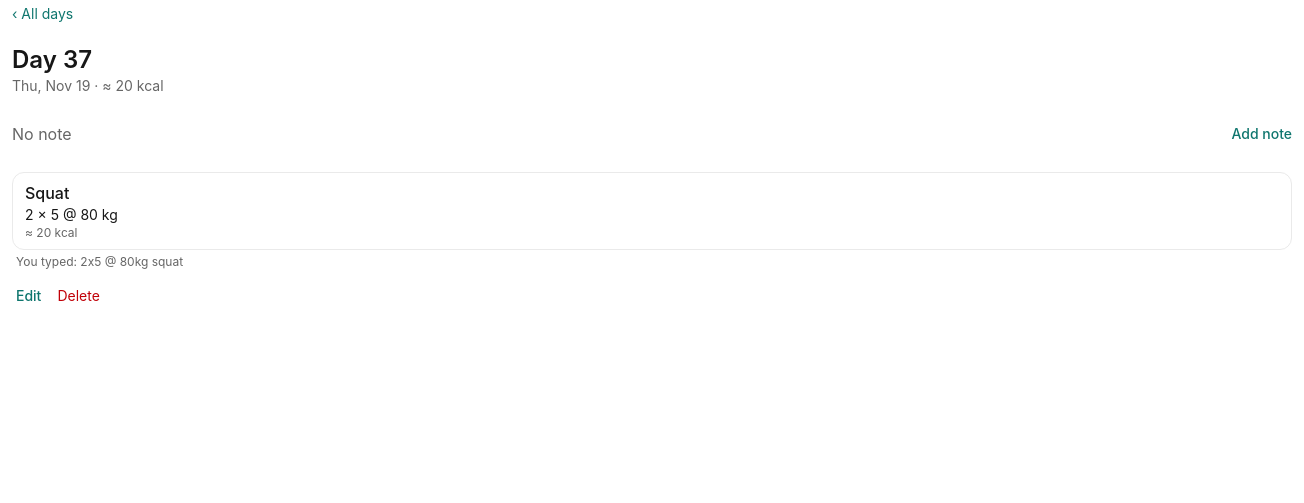
Day › a rejected edit is explained
This screenshot has width=1304, height=503.
Click the button "Edit" at (29, 296), box [12,274,45,318]
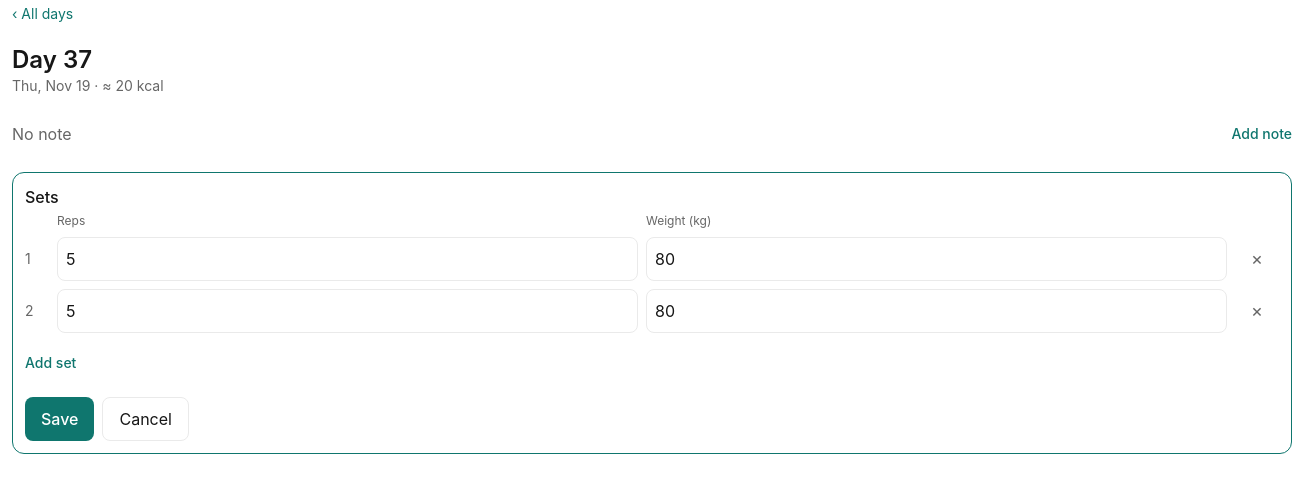
Click the button "Save" at (60, 419), box [25,397,94,441]
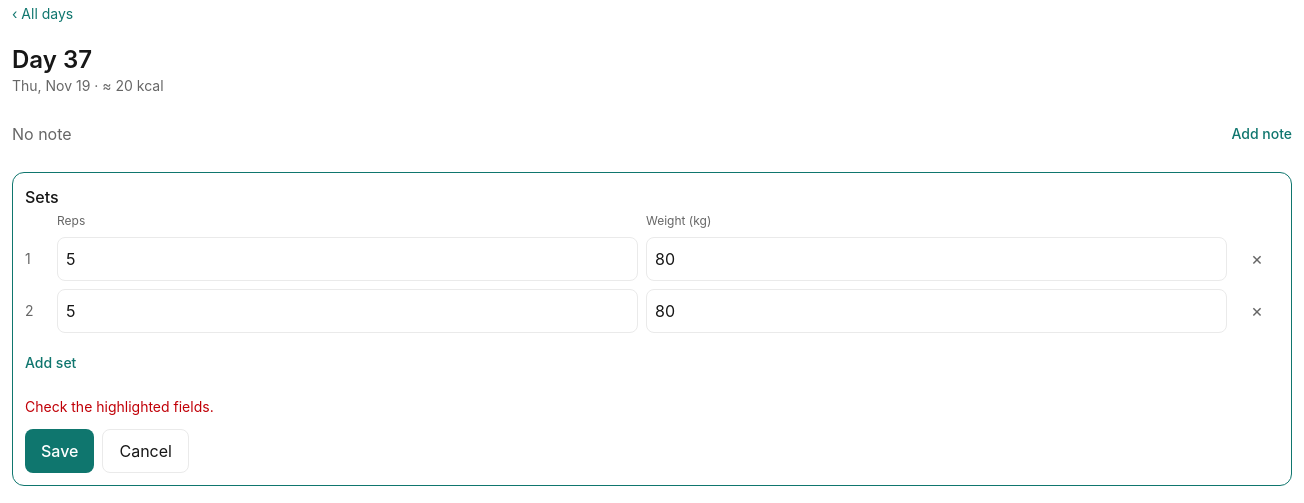
Now the message reads "Check the highlighted fields.", box [25,398,214,415]
